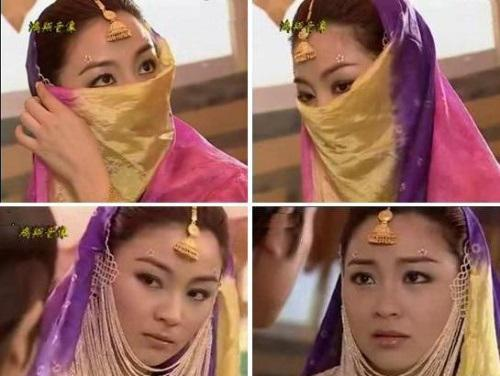NONE: (346, 246, 454, 363), (114, 257, 218, 364)
OK: (77, 39, 180, 142), (299, 56, 393, 149)
